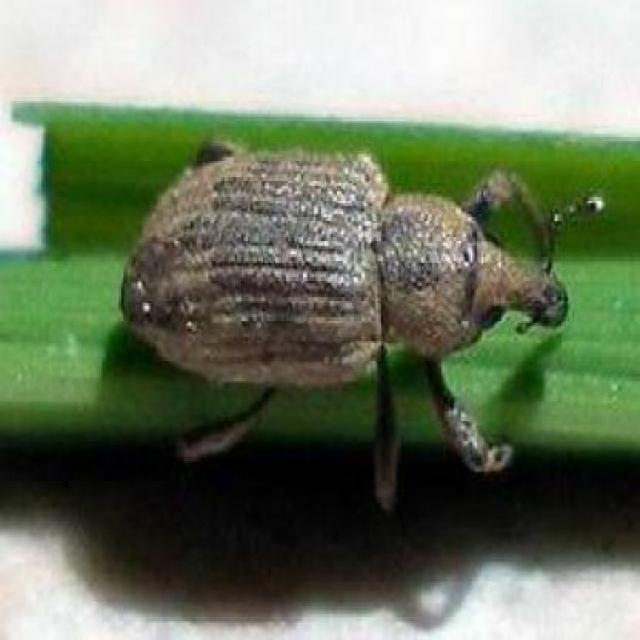rice-bug: (118, 131, 572, 460)
